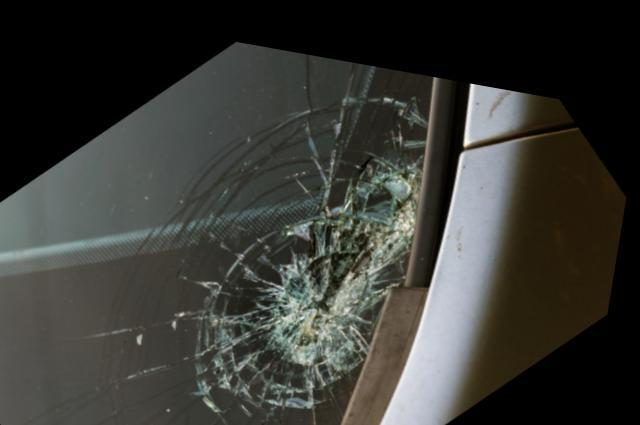glass shatter: (0, 33, 433, 425)
